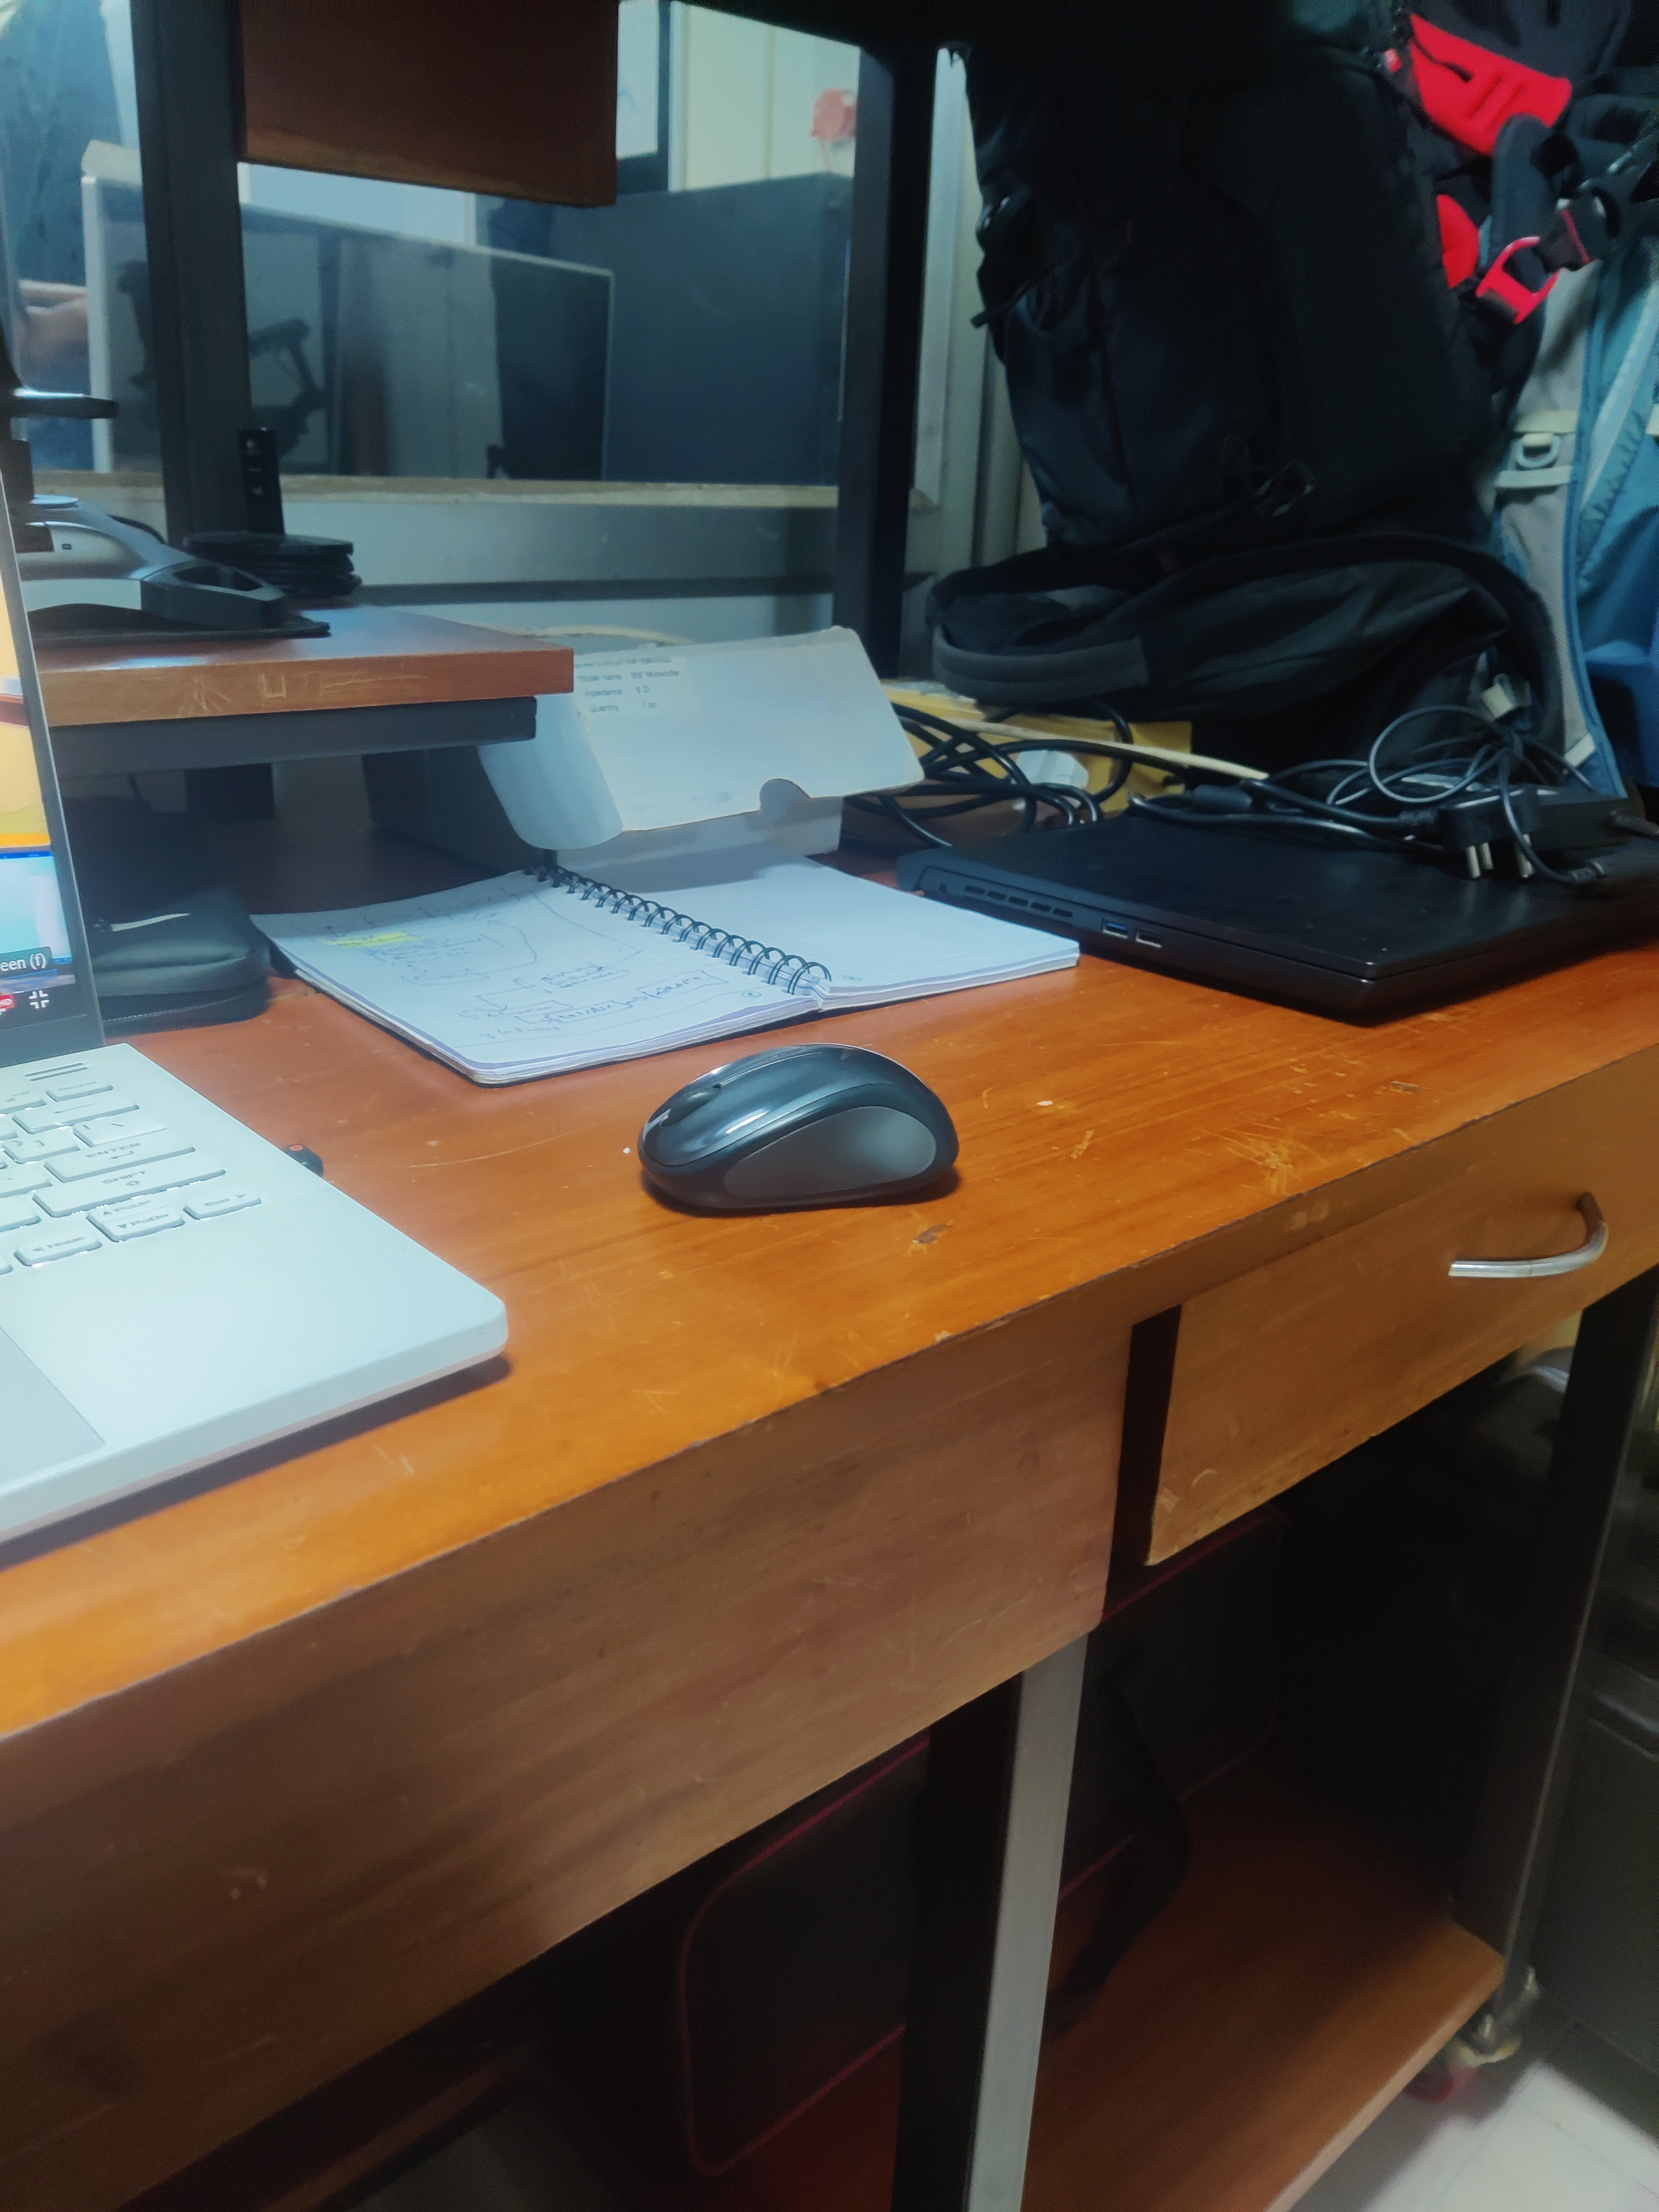logitechMouse: (633, 1038, 964, 1217)
